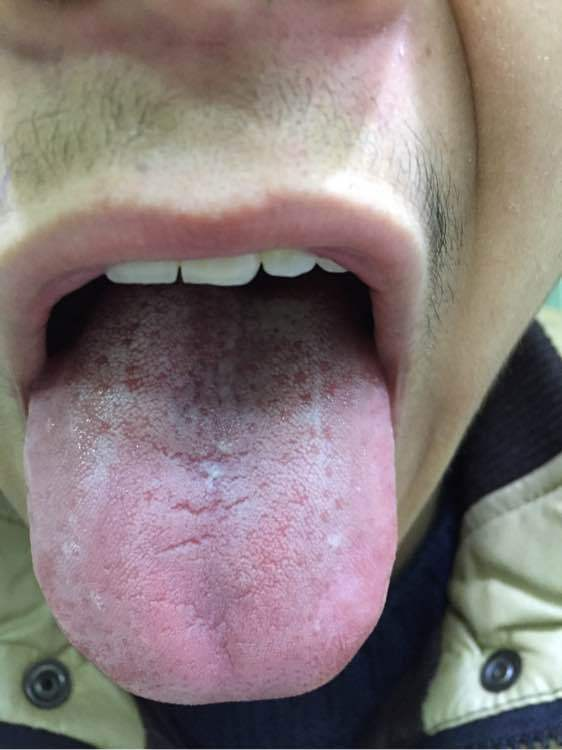baitaishe: (24, 261, 396, 705)
hongdianshe: (294, 389, 315, 406)
